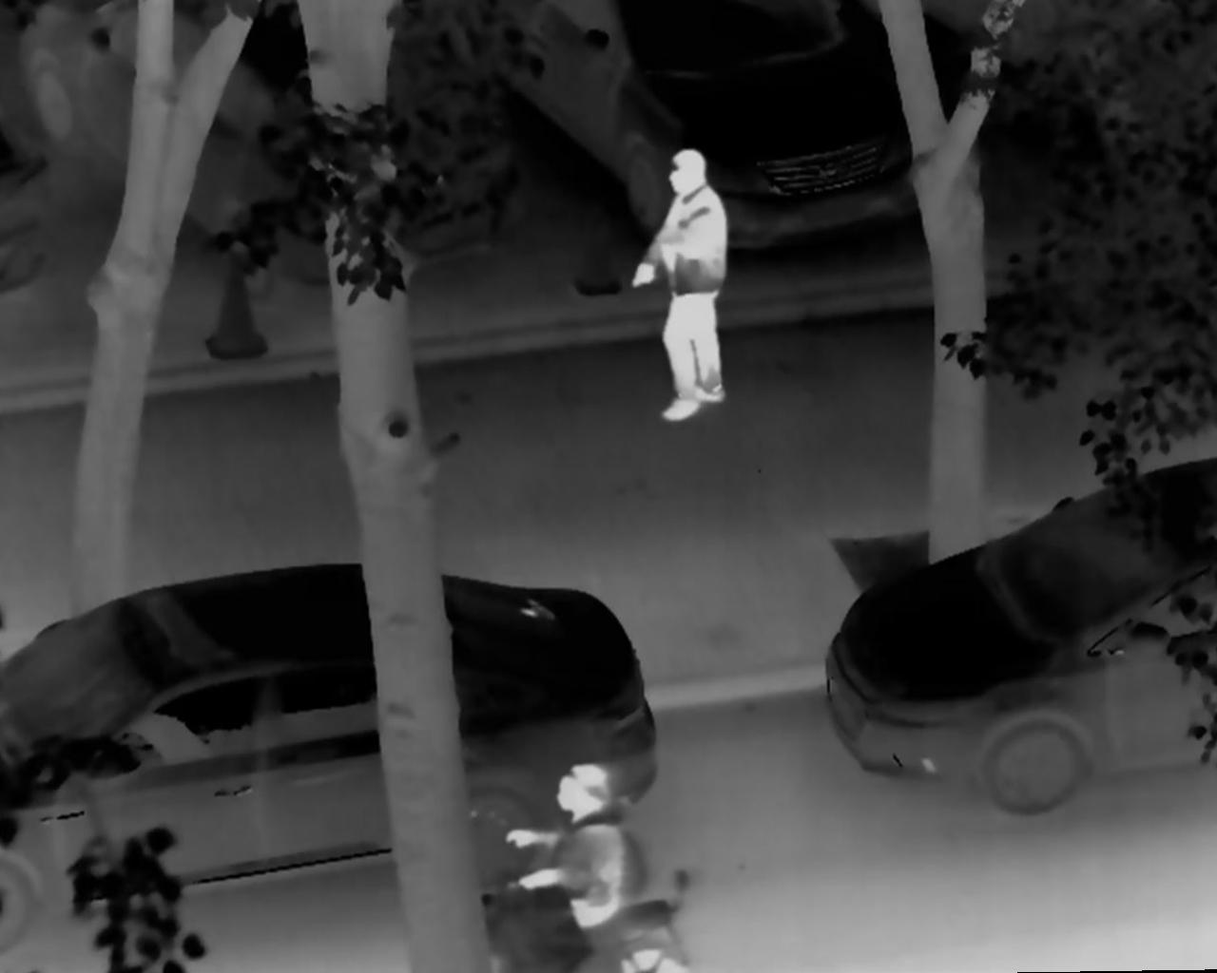person: (623, 140, 739, 427), (506, 755, 628, 939)
